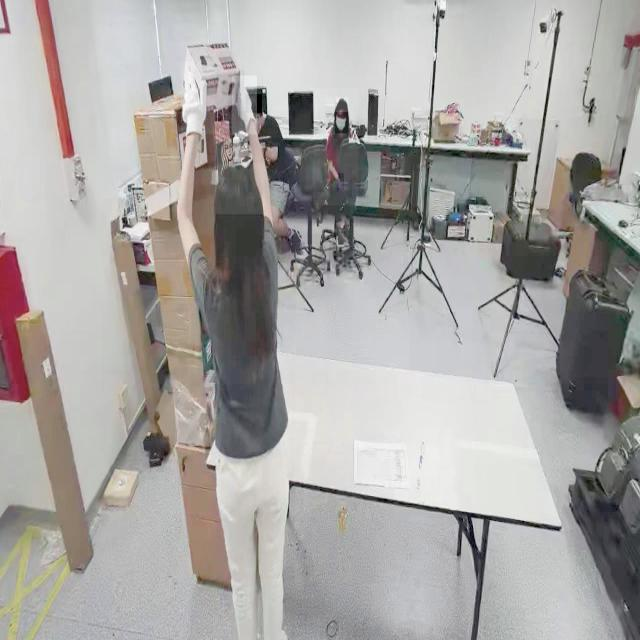face_mask: (335, 102, 349, 134)
hand_glove: (180, 62, 216, 134), (231, 76, 257, 134)
hand_noglove: (336, 173, 344, 191)
head_nohelmet: (214, 164, 264, 215), (245, 94, 262, 114), (335, 97, 349, 113)
person: (191, 110, 295, 639), (313, 88, 358, 206)
